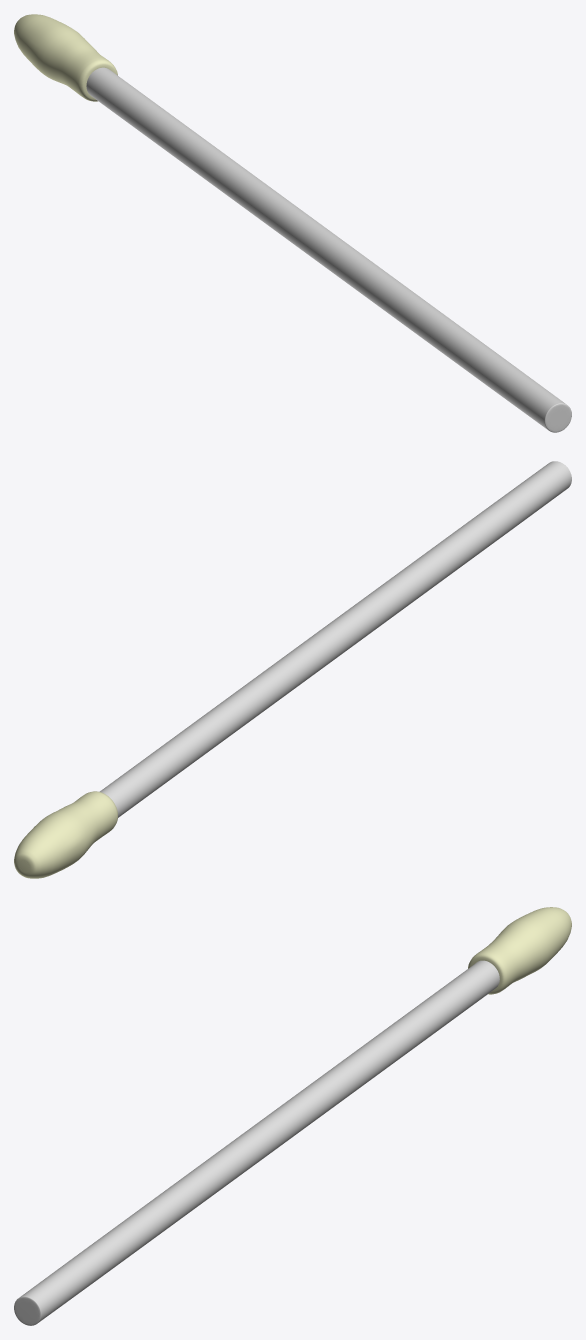
File: swab.fbx
3 views of the same model, one above another, from view 1: azimuth 30°, elevation 25°; view 2: azimuth 150°, elevation 25°; view 3: azimuth 330°, elevation 25° (orthographic).
Visible parts, largest first — view 1: swab; view 2: swab; view 3: swab.
Part boxes in pixels (x1=…): swab: x1=14, y1=14, x2=571, y2=432; swab: x1=14, y1=461, x2=571, y2=878; swab: x1=14, y1=907, x2=571, y2=1325.
Size of the model in its own units: 0.6992 by 0.6986 by 13.74.
